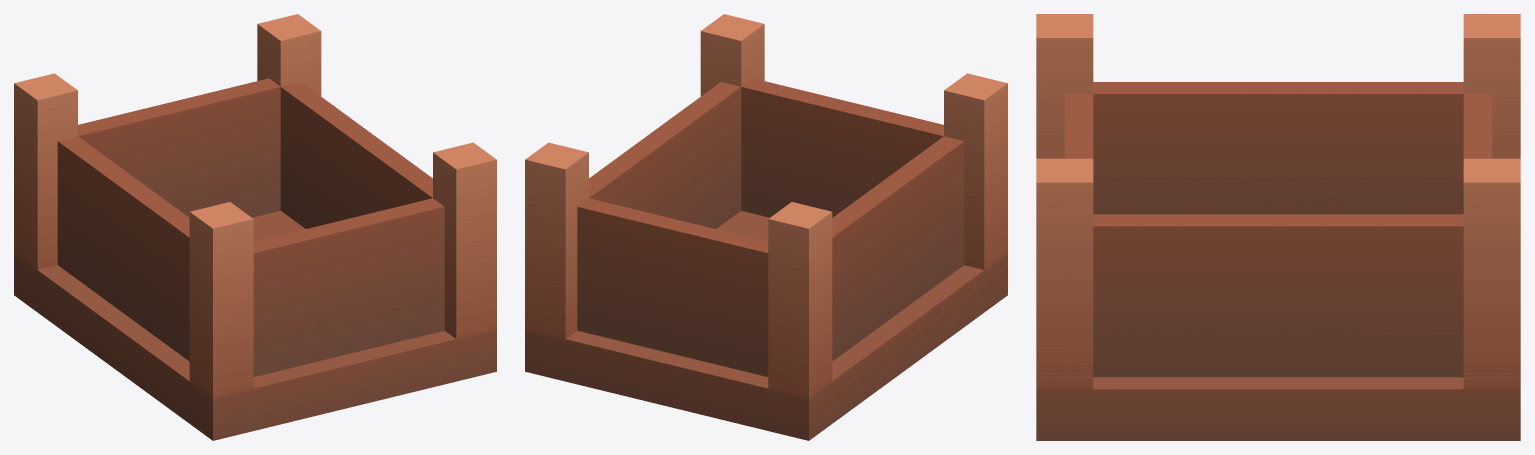
Rendered from crate.glb.
3 views of the same model, side by side, from view 1: azimuth 30°, elevation 25°; view 2: azimuth 150°, elevation 25°; view 3: azimuth 270°, elevation 25° (orthographic). The views are drawn at different scales.
Visible parts, largest first — view 1: crate; view 2: crate; view 3: crate.
Part boxes in pixels (bbox=[...]): crate: bbox=[14, 14, 496, 440]; crate: bbox=[525, 14, 1007, 440]; crate: bbox=[1036, 14, 1520, 440].
Size of the model in its own units: 1.08 by 0.77 by 1.31.
Materials: 1 (1 with a texture image).
